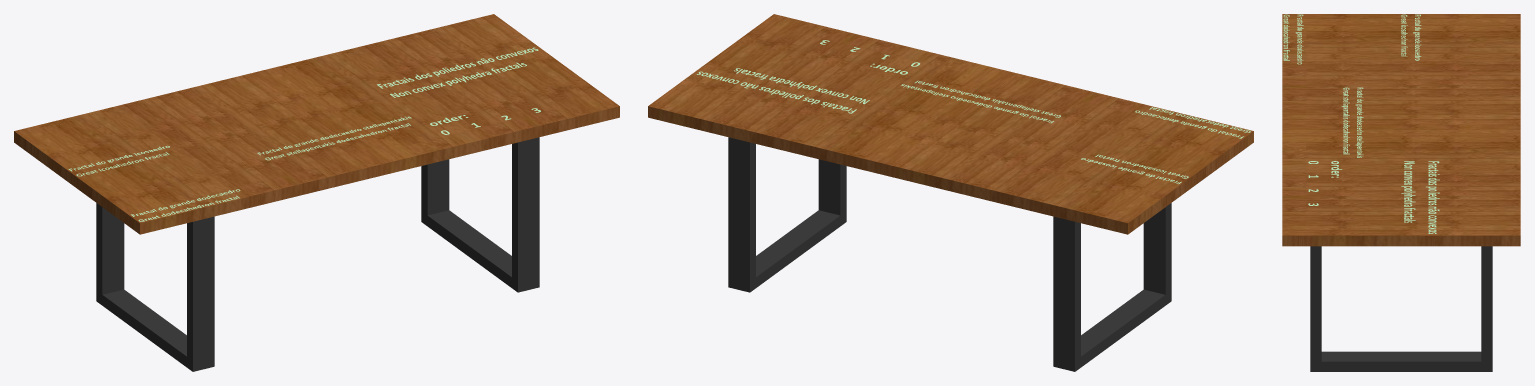
Rendered from fractal_nonconvex2.glb.
3 views of the same model, side by side, from view 1: azimuth 30°, elevation 25°; view 2: azimuth 150°, elevation 25°; view 3: azimuth 270°, elevation 25° (orthographic). The views are drawn at different scales.
Parts seen in each view (by area): view 1: object 1, Composant#1 (×2), Fractais dos pol#1, Fractal do grand#3, Fractal do grand#2; view 2: object 1, Composant#1 (×2), Fractais dos pol#1, Fractal do grand#3, Fractal do grand#2; view 3: object 1, Composant#1, Fractais dos pol#1, Fractal do grand#3, Fractal do grand#2, Fractal do grand#1.
Part boxes in pixels (box(x1,y1,x2,y2)): object 1: box(14, 14, 619, 234); Composant#1 (×2): box(96, 137, 539, 371); Fractais dos pol#1: box(377, 47, 538, 97); Fractal do grand#3: box(257, 116, 411, 160); Fractal do grand#2: box(131, 189, 240, 221); object 1: box(648, 14, 1253, 234); Composant#1 (×2): box(728, 137, 1171, 371); Fractais dos pol#1: box(696, 68, 869, 113); Fractal do grand#3: box(901, 80, 1060, 123); Fractal do grand#2: box(1135, 107, 1250, 138); object 1: box(1282, 14, 1520, 246); Composant#1: box(1310, 246, 1492, 371); Fractais dos pol#1: box(1401, 161, 1439, 233); Fractal do grand#3: box(1341, 87, 1363, 157); Fractal do grand#2: box(1283, 14, 1303, 64); Fractal do grand#1: box(1401, 14, 1421, 60).
Size of the model in its own units: 2.2 by 0.7711 by 1.
3 materials, 1 textured.
